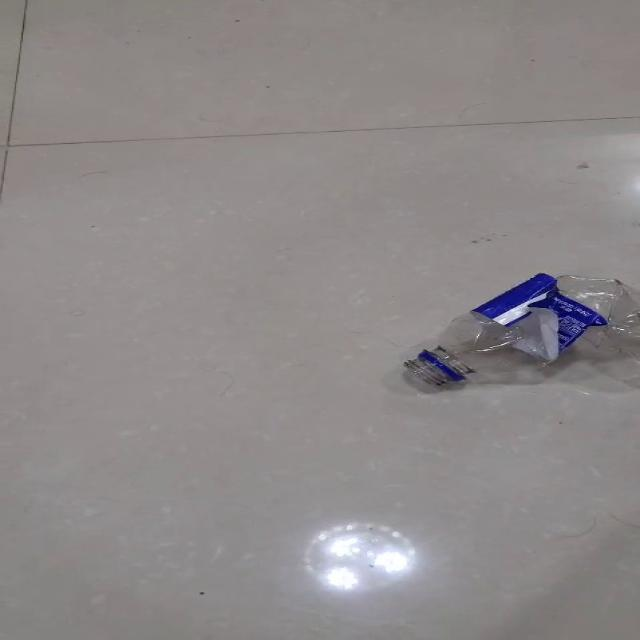plastic: (402, 272, 637, 391)
